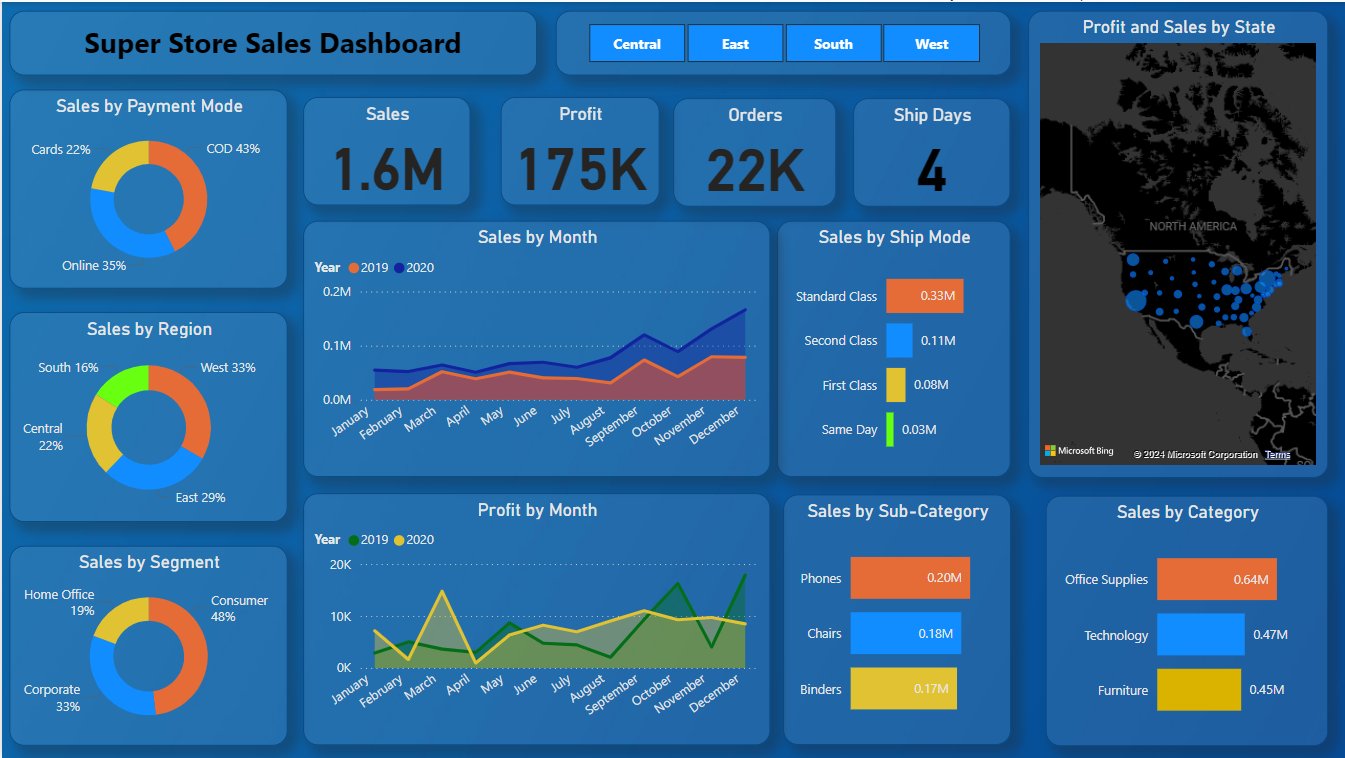

Layout of this report page (visuals, bound fields, positions):
{"tool":"powerbi","page":{"name":"Page 1","canvas":[1280,720],"ordinal":0},"visuals":[{"type":"clusteredBarChart","title":"Sales by Category","fields":{"Category":["Sheet1.Category"],"Y":["Sum(Sheet1.Sales)"]},"box":[993.5,470.7,269,238.8],"z":0},{"type":"clusteredBarChart","title":"Sales by Sub-Category","fields":{"Category":["Sheet1.Sub-Category"],"Y":["Sum(Sheet1.Sales)"]},"box":[743.7,469.3,216.8,238.8],"z":1000},{"type":"clusteredBarChart","title":"Sales by Ship Mode","fields":{"Category":["Sheet1.Ship Mode"],"Y":["Sum(Sheet1.Sales)"]},"box":[738.3,208.6,222.3,244.3],"z":2000},{"type":"areaChart","title":"Sales by Month","fields":{"Y":["Sum(Sheet1.Sales)"],"Category":["Sheet1.Order Date.Variation.Date Hierarchy.Month","Sheet1.Order Date.Variation.Date Hierarchy.Day"],"Series":["Sheet1.Order Date.Variation.Date Hierarchy.Year"]},"box":[286.8,208.6,444.6,244.3],"z":3000},{"type":"areaChart","title":"Profit by Month","fields":{"Series":["Sheet1.Order Date.Variation.Date Hierarchy.Year"],"Y":["Sum(Sheet1.Profit)"],"Category":["Sheet1.Order Date.Variation.Date Hierarchy.Month","Sheet1.Order Date.Variation.Date Hierarchy.Day"]},"box":[286.8,467.9,444.6,240.1],"z":4000},{"type":"map","title":"Profit and Sales by State","fields":{"Size":["Sum(Sheet1.Sales)"],"Category":["Sheet1.State"]},"box":[977,8.2,285.4,444.6],"z":5000},{"type":"donutChart","title":"Sales by Segment","fields":{"Y":["Sum(Sheet1.Sales)"],"Category":["Sheet1.Segment"]},"box":[6.9,517.3,264.8,190.7],"z":6000},{"type":"donutChart","title":"Sales by Region","fields":{"Y":["Sum(Sheet1.Sales)"],"Category":["Sheet1.Region"]},"box":[6.9,295,264.8,200.3],"z":7000},{"type":"donutChart","title":"Sales by Payment Mode","fields":{"Y":["Sum(Sheet1.Sales)"],"Category":["Sheet1.Payment Mode"]},"box":[6.9,83.7,264.8,189.4],"z":8000},{"type":"slicer","fields":{"Values":["Sheet1.Region"]},"box":[526.9,8.2,433.6,61.7],"z":9000},{"type":"textbox","box":[6.9,8.2,502.2,61.7],"z":10000},{"type":"card","title":"Sales","fields":{"Values":["Sum(Sheet1.Sales)"]},"box":[286.8,90.6,159.2,102.9],"z":11000},{"type":"card","title":"Orders","fields":{"Values":["Sum(Sheet1.Quantity)"]},"box":[639.5,91.9,155.1,102.9],"z":12000},{"type":"card","title":"Profit","fields":{"Values":["Sum(Sheet1.Profit)"]},"box":[474.8,90.6,150.9,102.9],"z":13000},{"type":"card","title":"Ship Days","fields":{"Values":["Avg(Sheet1.AvgDelivery)"]},"box":[811,91.9,149.6,102.9],"z":14000}]}

Visuals, with their boxes in screenshot pixels (x1, y1, x2, y2), scaled from the page's 1280x720 canvas onto the 1345x758 screenshot:
"Sales by Category" clusteredBarChart: [1044, 496, 1327, 747]
"Sales by Sub-Category" clusteredBarChart: [781, 494, 1009, 745]
"Sales by Ship Mode" clusteredBarChart: [776, 220, 1009, 477]
"Sales by Month" areaChart: [301, 220, 769, 477]
"Profit by Month" areaChart: [301, 493, 769, 745]
"Profit and Sales by State" map: [1027, 9, 1327, 477]
"Sales by Segment" donutChart: [7, 545, 285, 745]
"Sales by Region" donutChart: [7, 311, 285, 521]
"Sales by Payment Mode" donutChart: [7, 88, 285, 288]
slicer - Sheet1.Region: [554, 9, 1009, 74]
textbox: [7, 9, 535, 74]
"Sales" card: [301, 95, 469, 204]
"Orders" card: [672, 97, 835, 205]
"Profit" card: [499, 95, 657, 204]
"Ship Days" card: [852, 97, 1009, 205]
